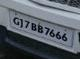6: (49, 29, 55, 37), (62, 33, 68, 41), (56, 32, 61, 39)
7: (24, 20, 30, 28), (44, 27, 50, 35)
B: (31, 23, 37, 31), (38, 25, 43, 33)
G: (13, 17, 20, 26)
J: (19, 18, 23, 28)
